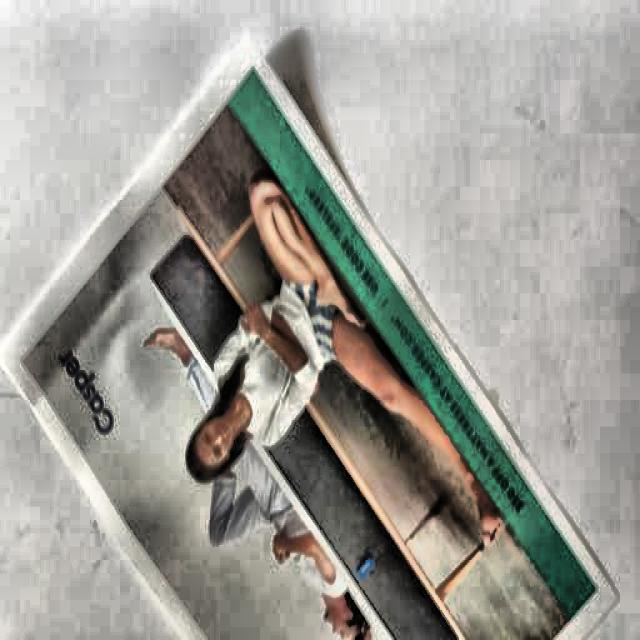paper: (10, 54, 618, 640)
